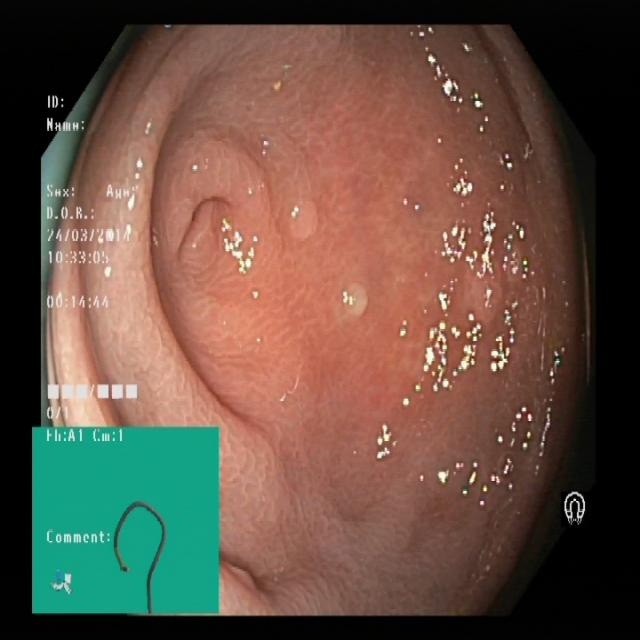normal-cecum: (277, 180, 332, 263), (332, 271, 380, 322)
